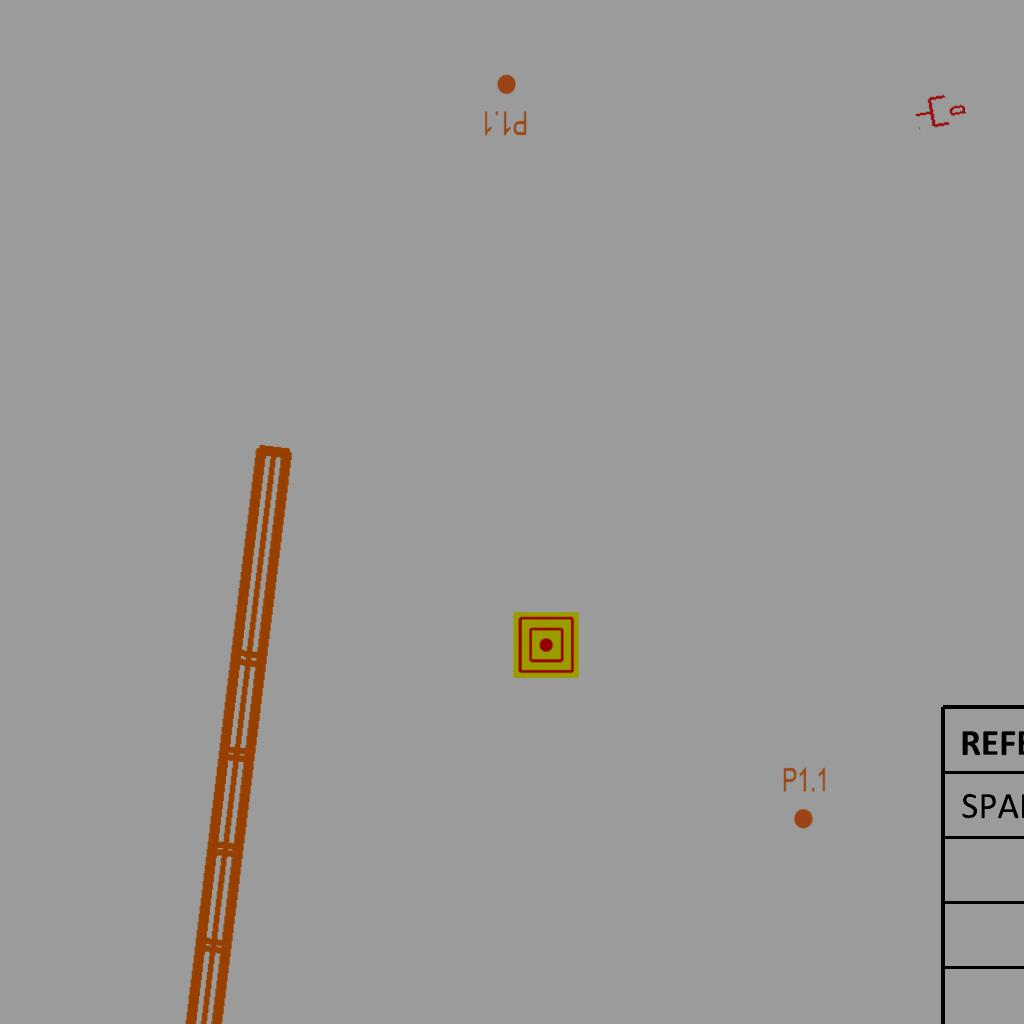Ambulanz_Pendelleuchte_LED: (151, 432, 357, 1024)
Datenanschluss_einfach: (912, 89, 968, 133)
Downlight_LED_Einbauleuchten_Flur: (782, 766, 828, 830), (482, 73, 528, 137)
NAM-Nichtautomatischer_Melder: (513, 612, 579, 678)
